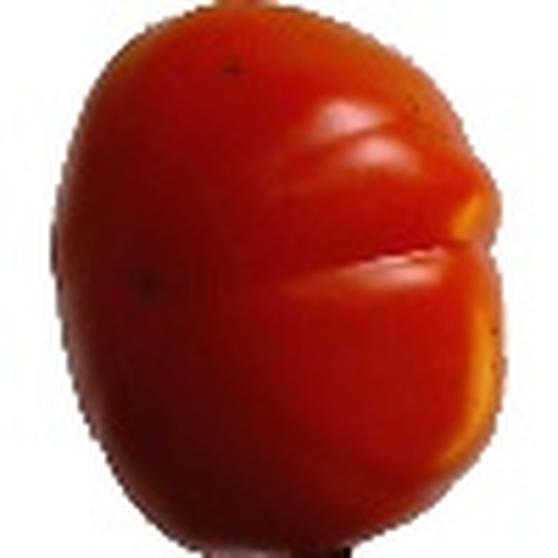tomato: (33, 1, 512, 558)
